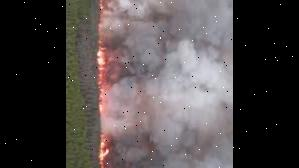fire: (96, 0, 116, 168)
